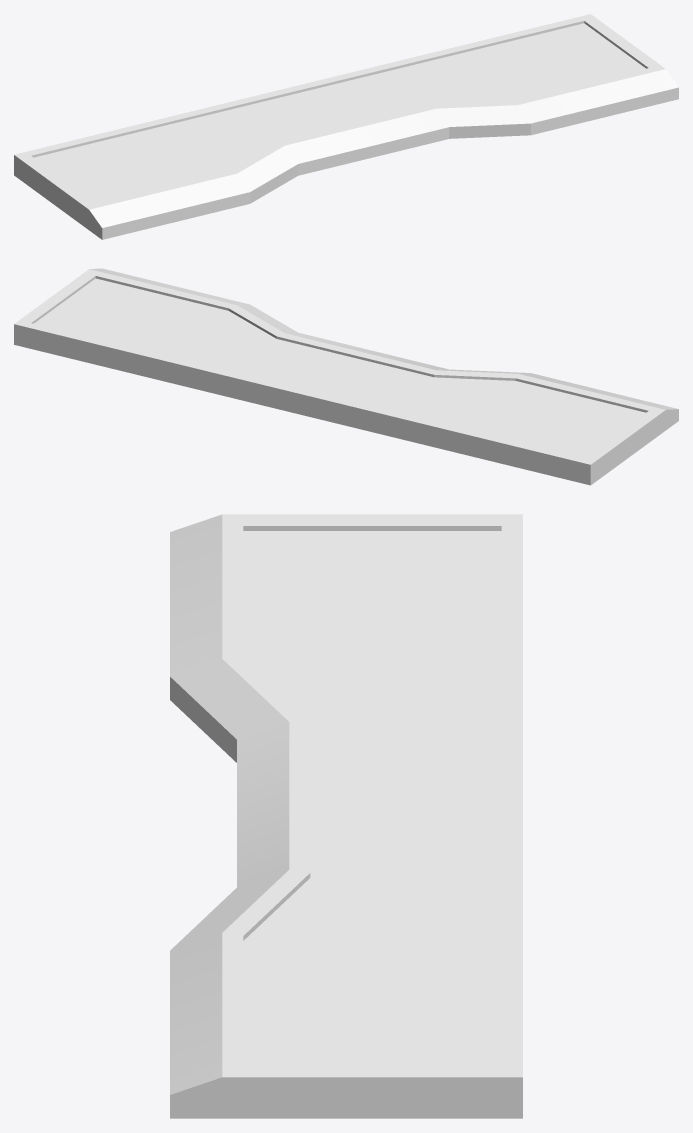
The model's file is KB3D_FTW_PropStep_B_grp.glb.
3 renders of one model, top to bottom at view 1: azimuth 30°, elevation 25°; view 2: azimuth 150°, elevation 25°; view 3: azimuth 270°, elevation 25°, orthographic. The views are drawn at different scales.
Visible parts, largest first — view 1: KB3D_FTW_PropStep_B_Main; view 2: KB3D_FTW_PropStep_B_Main; view 3: KB3D_FTW_PropStep_B_Main.
Part boxes in pixels (x1,y1,x2,y2): KB3D_FTW_PropStep_B_Main: [14, 14, 678, 239]; KB3D_FTW_PropStep_B_Main: [14, 268, 678, 485]; KB3D_FTW_PropStep_B_Main: [170, 514, 522, 1118].
Bounding box in the file's own units: 1.14 × 0.0389 × 0.3008.
2 materials, 1 textured.
